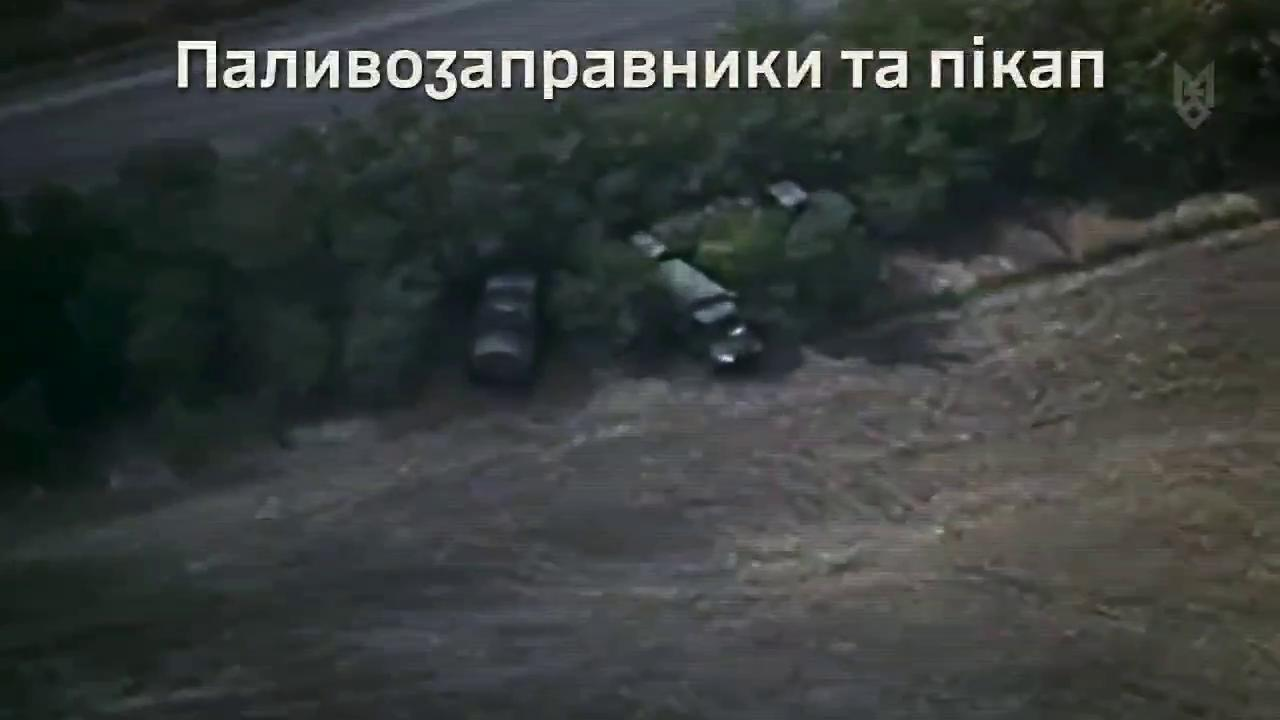tank: (630, 176, 821, 274), (644, 256, 768, 372), (467, 268, 550, 385)
